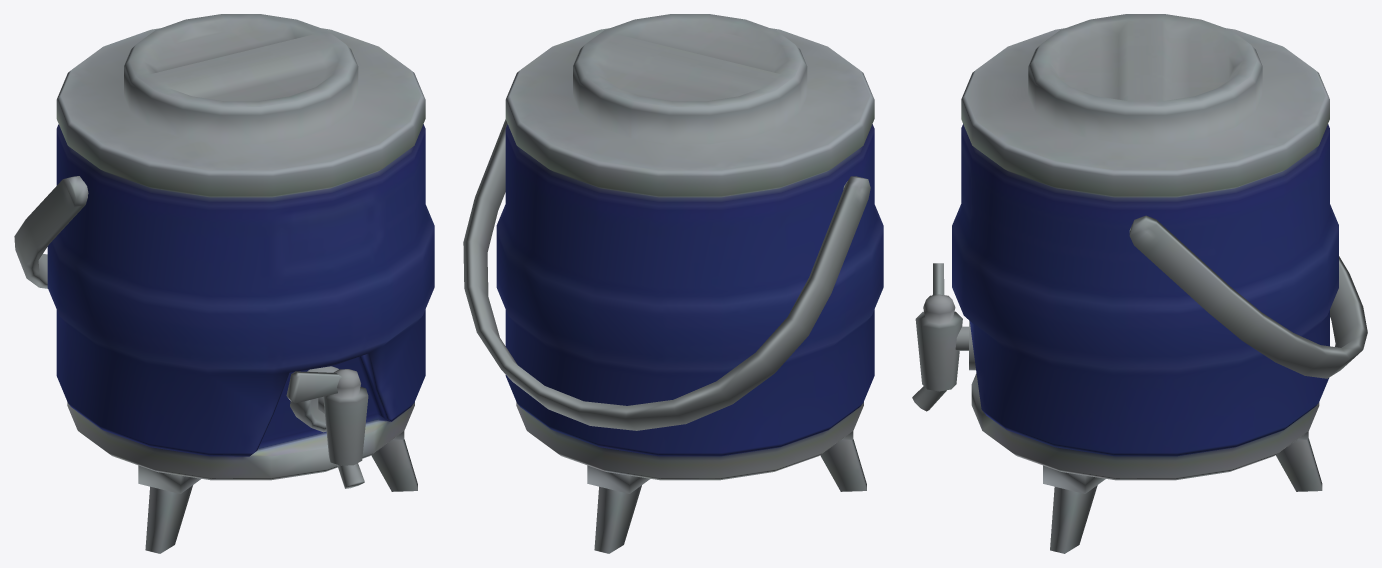
The picture shows the model from 3 angles, left to right: view 1: azimuth 30°, elevation 25°; view 2: azimuth 150°, elevation 25°; view 3: azimuth 270°, elevation 25°; orthographic projection.
Size of the model in its own units: 6.01 by 7.1 by 6.87.
1 material, 1 textured.
